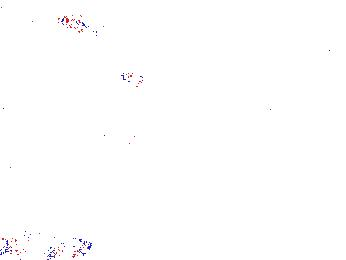red belly glassfish: (56, 14, 109, 35), (118, 69, 167, 88)
redtail glassfish: (1, 234, 97, 260), (101, 127, 152, 157)
